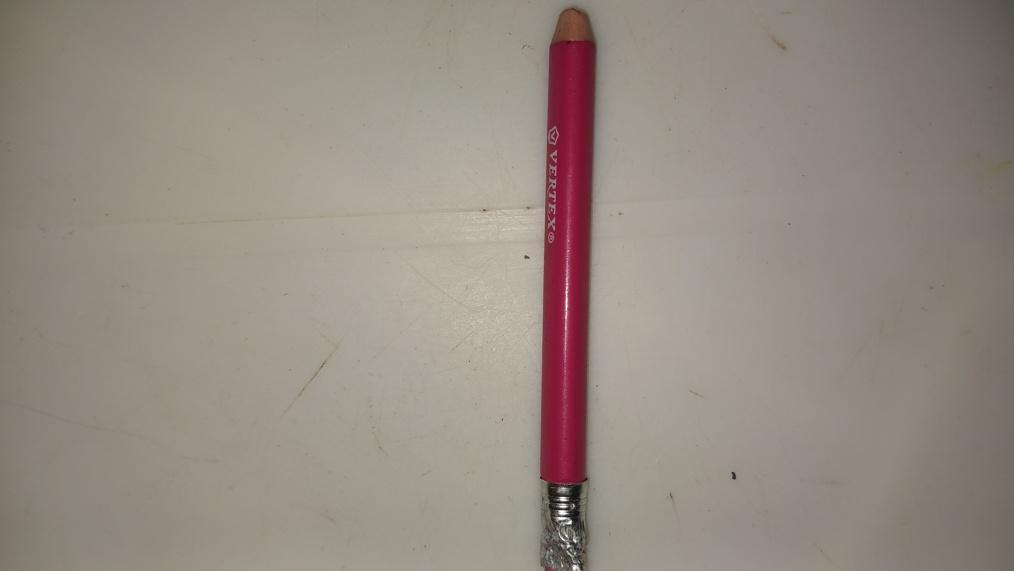Pencil: (538, 2, 597, 571)
